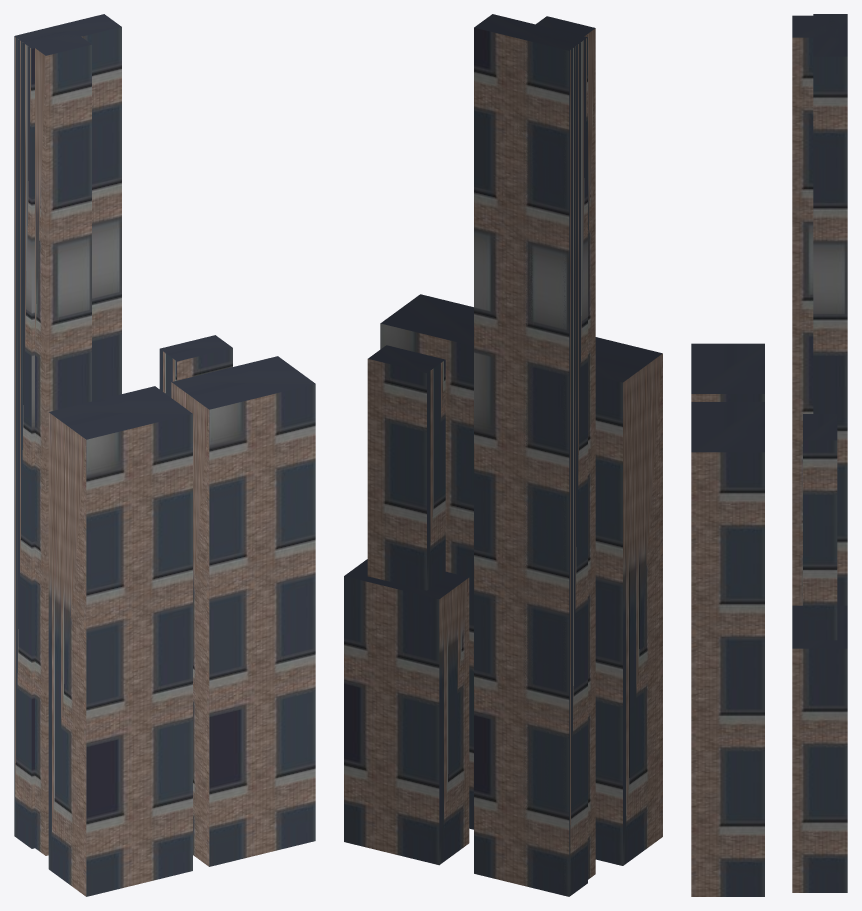
File: city_block_12345_6_01.glb
The picture shows the model from 3 angles, left to right: view 1: azimuth 30°, elevation 25°; view 2: azimuth 150°, elevation 25°; view 3: azimuth 270°, elevation 25°; orthographic projection. The views are drawn at different scales.
Parts seen in each view (by area): view 1: block_01; view 2: block_01; view 3: block_01.
Boxes of the visible parts, box(x1,y1,x2,y2) form: block_01: box(14, 14, 315, 896); block_01: box(344, 14, 662, 896); block_01: box(691, 14, 847, 896).
Bounding box in the file's own units: 4.2 × 14 × 2.55.
Materials: 4 (4 with a texture image).
